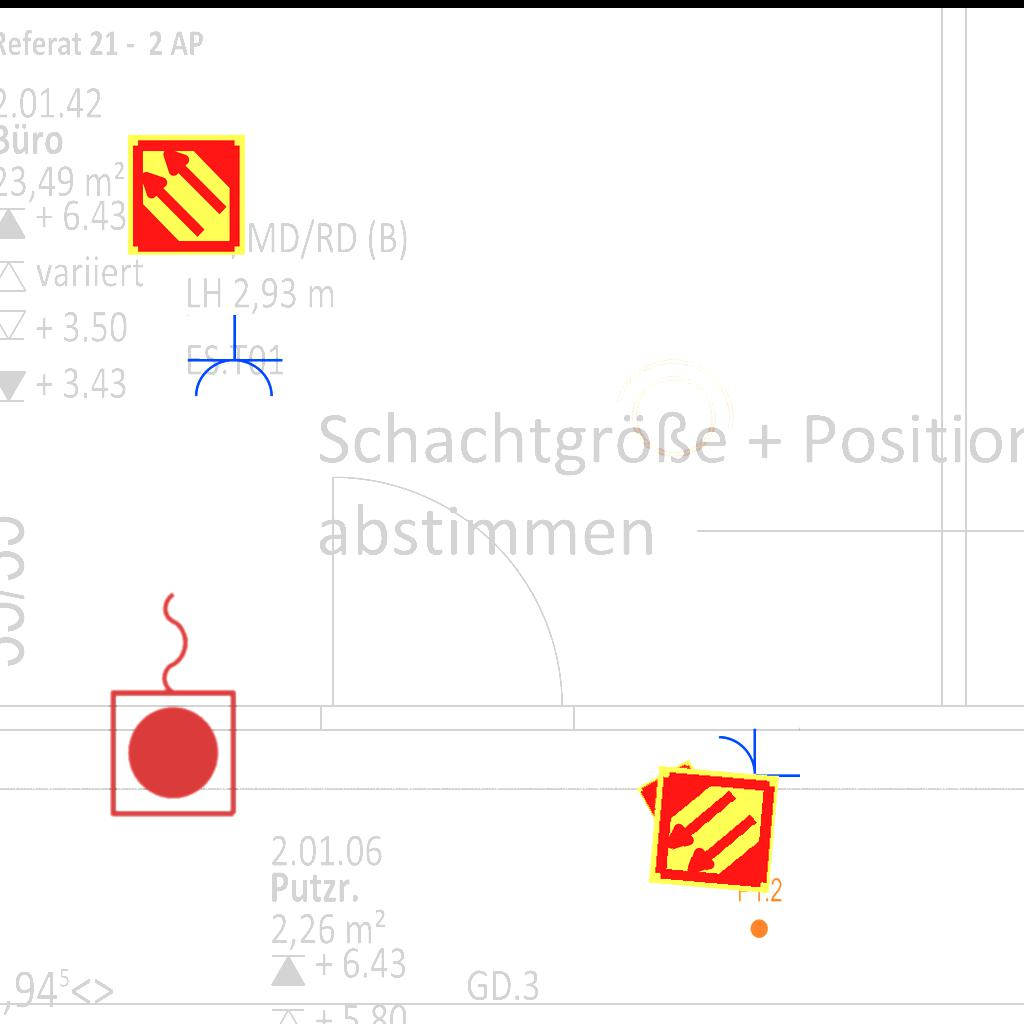ASR_Ansaugrauchmelder: (645, 761, 782, 898), (124, 132, 249, 257), (634, 756, 720, 842)
Downlight_LED_Einbauleuchten_Flur: (737, 876, 783, 940)
Scheinwerfer_fuer_Alarmbeleuchtung: (595, 342, 749, 480)
Schukosteckdose_einfach: (714, 725, 801, 825), (184, 314, 284, 401)
Zugtaster: (103, 581, 247, 825)
